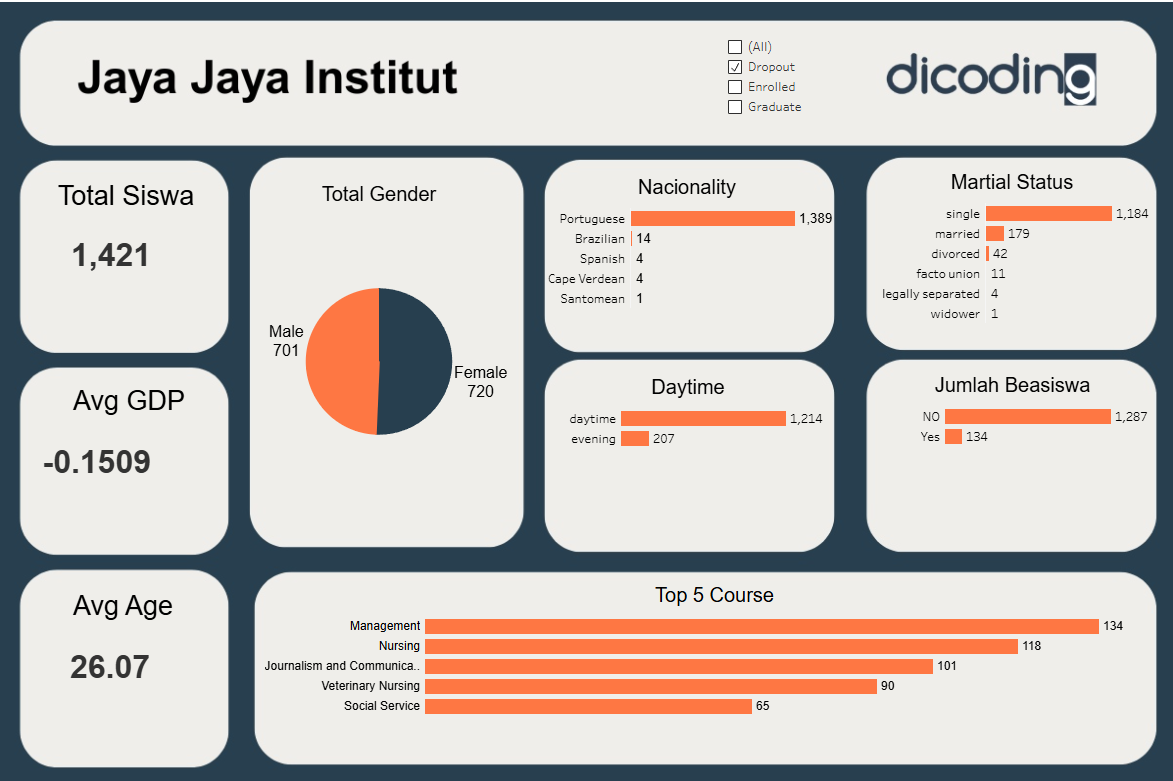

Layout of this report page (visuals, bound fields, positions):
{"tool":"tableau","page":{"name":"Dashboard 1","canvas":[1000,1000],"units":"permille","ordinal":0},"visuals":[{"type":"image","param":"Image/jaya jaya institute.png","box":[6.7,9.3,986.7,981.4]},{"type":"filter","title":"Jumlah Siswa","param":"[federated.0ldctog0ceqf5b176flil0wijt9b].[none:Status:nk]","box":[614.2,54.6,133.3,139.5]},{"type":"text","box":[31.7,197.7,168.3,91.9]},{"type":"worksheet","title":"Martial Status","mark":"Automatic","rows":["Marital_status"],"cols":["Status"],"box":[731.7,205.8,245,232.6]},{"type":"worksheet","title":"Nacionality","mark":"Automatic","rows":["Nacionality"],"cols":["Status"],"box":[452.5,211.6,261.7,218.6]},{"type":"worksheet","title":"Total Gender","mark":"Pie","box":[153.3,219.8,346.7,393]},{"type":"worksheet","title":"Jumlah Siswa","mark":"Automatic","box":[61.7,287.2,109.2,74.4]},{"type":"text","box":[34.2,440.7,168.3,91.9]},{"type":"worksheet","title":"Jumlah Beasiswa","mark":"Automatic","rows":["Calculation_1195987189995438081"],"cols":["Scholarship_holder"],"box":[731.7,446.5,245.8,214]},{"type":"worksheet","title":"Daytime","mark":"Automatic","rows":["Daytime_evening_attendance"],"cols":["Status"],"box":[461.7,448.8,245,236.1]},{"type":"worksheet","title":"Avg GDP","mark":"Automatic","box":[40,532.6,155.8,68.6]},{"type":"text","box":[29.2,682.6,168.3,91.9]},{"type":"worksheet","title":"Top 5 Course","mark":"Automatic","rows":["Course"],"cols":["Status"],"box":[231.7,694.2,749.2,217.4]},{"type":"worksheet","title":"Avg Age","mark":"Automatic","box":[55.8,780.2,112.5,82.6]}]}

Visuals, with their boxes on the dashboard's canvas, which has no fixed pixel size, in thousandths of its width and height (x1, y1, x2, y2). These are canvas units, not pixel positions in the 1173x781 screenshot, which may show the page scaled, cropped or inside an application window:
image: BBox(7, 9, 993, 991)
"Jumlah Siswa" filter: BBox(614, 55, 748, 194)
text: BBox(32, 198, 200, 290)
"Martial Status" worksheet: BBox(732, 206, 977, 438)
"Nacionality" worksheet: BBox(452, 212, 714, 430)
"Total Gender" worksheet (Pie marks): BBox(153, 220, 500, 613)
"Jumlah Siswa" worksheet: BBox(62, 287, 171, 362)
text: BBox(34, 441, 202, 533)
"Jumlah Beasiswa" worksheet: BBox(732, 446, 978, 660)
"Daytime" worksheet: BBox(462, 449, 707, 685)
"Avg GDP" worksheet: BBox(40, 533, 196, 601)
text: BBox(29, 683, 198, 774)
"Top 5 Course" worksheet: BBox(232, 694, 981, 912)
"Avg Age" worksheet: BBox(56, 780, 168, 863)
